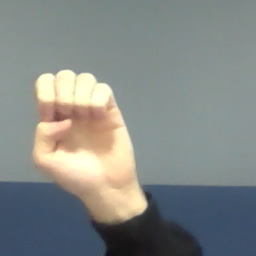E: (28, 68, 143, 190)
